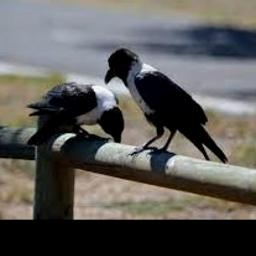Crow: (104, 49, 228, 167), (27, 81, 124, 144)
